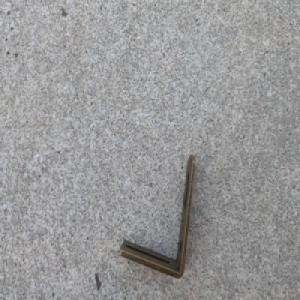MetalPart: (119, 152, 198, 279)
